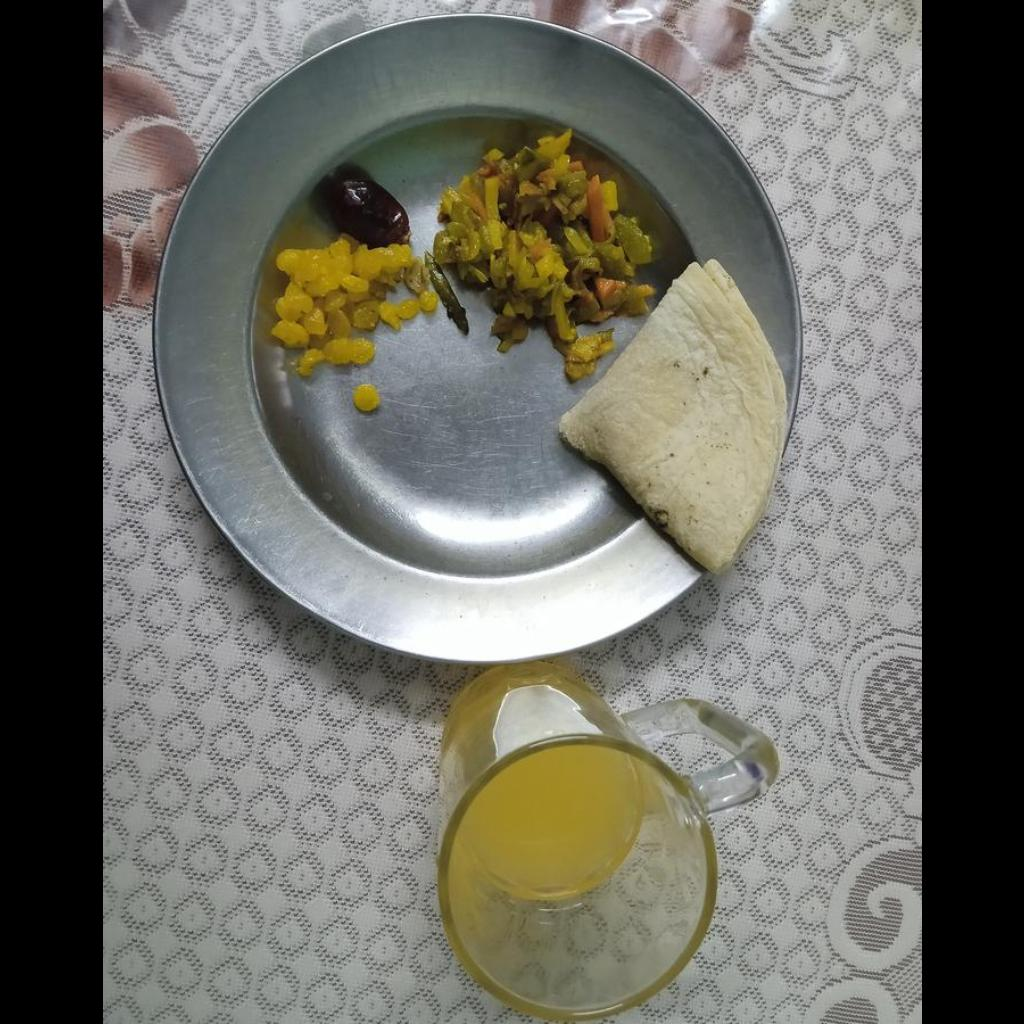burinda: (270, 247, 437, 364)
dates: (315, 164, 407, 248)
juice: (448, 740, 644, 907)
ruti: (549, 255, 783, 573)
vaji: (444, 138, 649, 372)
